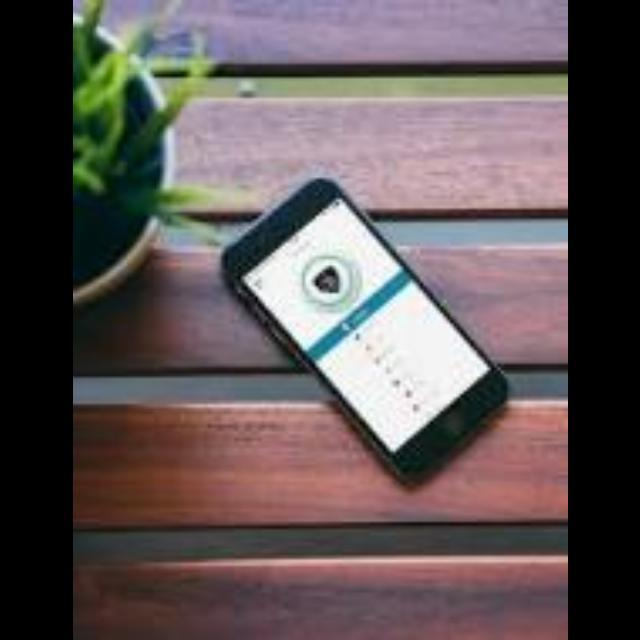Phone: (211, 173, 514, 482)
